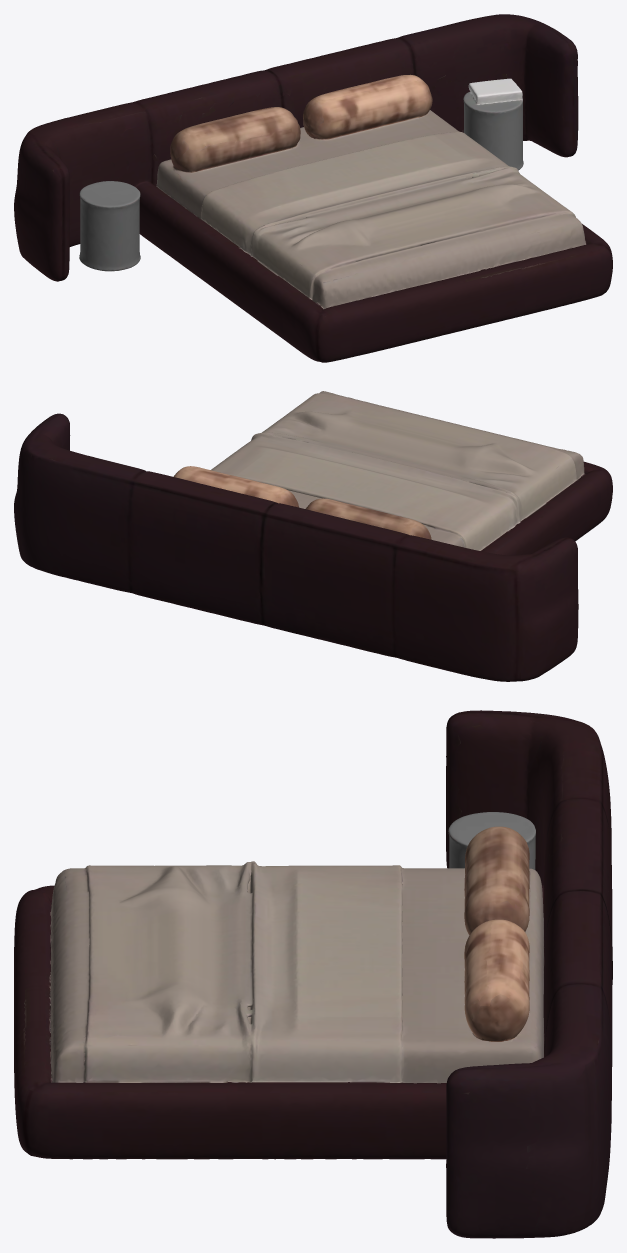
File: Modern Dark Brown Leather Platform Bed with Integrated Side Tables [NAbRAU].glb
3 views of the same model, one above another, from view 1: azimuth 30°, elevation 25°; view 2: azimuth 150°, elevation 25°; view 3: azimuth 270°, elevation 25° (orthographic). The views are drawn at different scales.
Parts seen in each view (by area): view 1: world; view 2: world; view 3: world.
Part boxes in pixels (left/top/right/bottom): world: left=14, top=14, right=612, bottom=362; world: left=14, top=391, right=612, bottom=681; world: left=14, top=710, right=612, bottom=1238.
Bounding box in the file's own units: 1 × 0.2112 × 0.677.
Materials: 1 (1 with a texture image).
